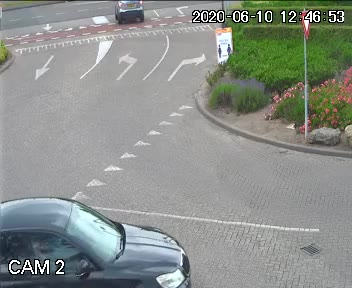car: (0, 183, 214, 288)
